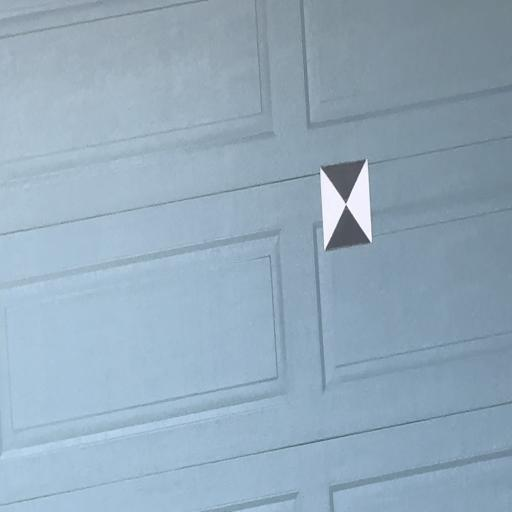target: (320, 159, 371, 251)
